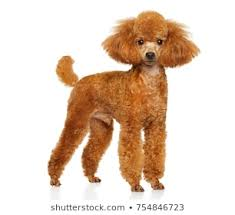Poodle: (30, 12, 228, 187)
